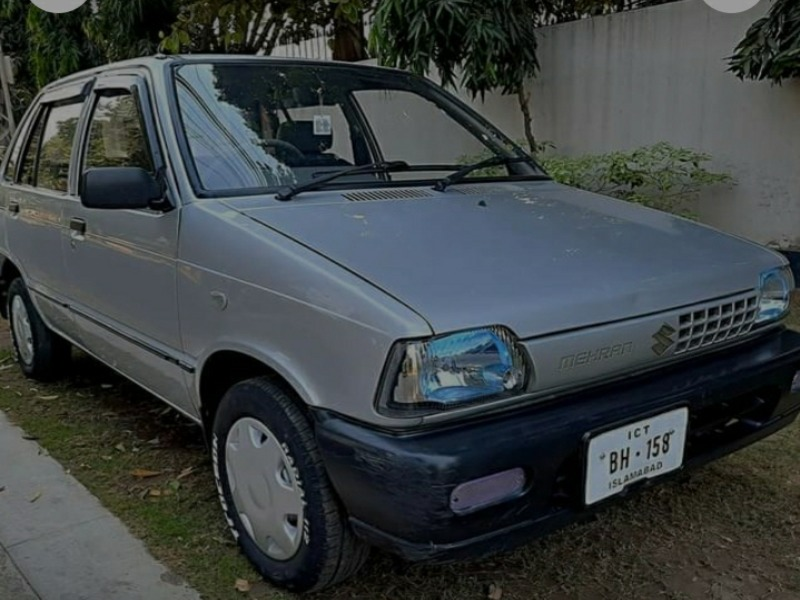License Plate: (582, 400, 694, 505)
